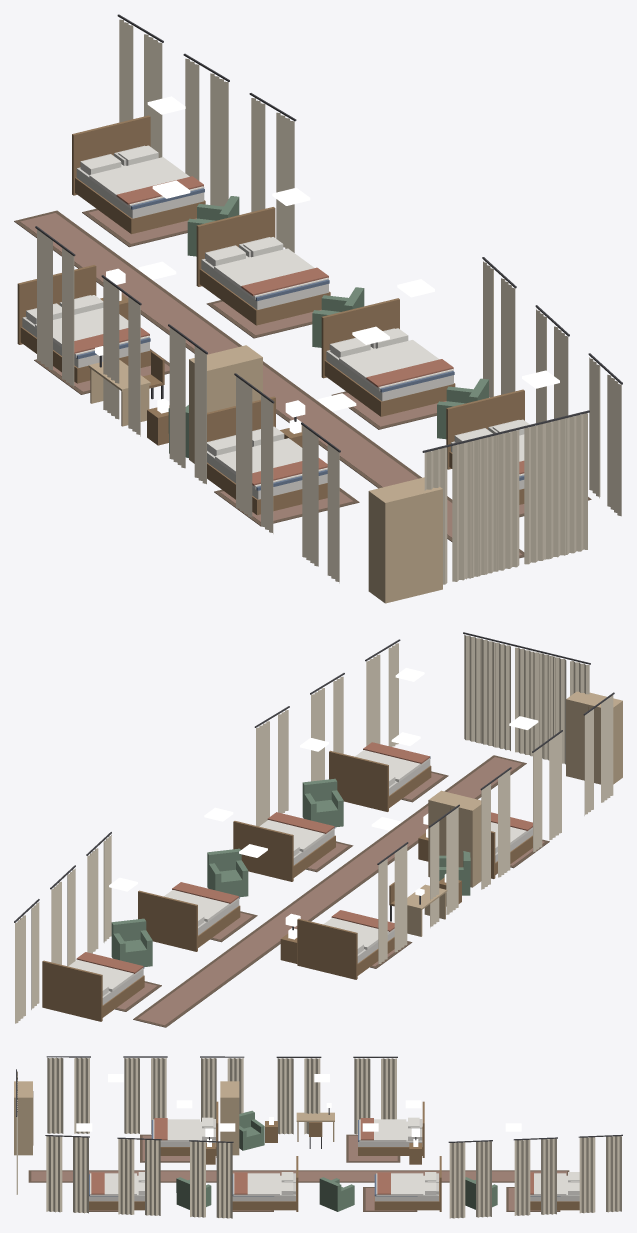
Rendered from fine-s1.glb.
3 views of the same model, one above another, from view 1: azimuth 30°, elevation 25°; view 2: azimuth 150°, elevation 25°; view 3: azimuth 270°, elevation 25° (orthographic). The views are drawn at different scales.
Visible parts, largest first — view 1: soft-s1, dresser.001, bed-frame.003, bed-frame.002, bed-frame.004, bed-frame.000, bed-frame.001, dresser.000, bed-frame.005, writing-desk.000, lounge-chair.002, lounge-chair.001 (+2 smaller); view 2: soft-s1, bed-frame.002, bed-frame.003, bed-frame.005, bed-frame.000, bed-frame.004, dresser.001, dresser.000, lounge-chair.001, lounge-chair.003, lounge-chair.002, writing-desk.000 (+3 smaller); view 3: soft-s1, dresser.001, bed-frame.003, bed-frame.004, dresser.000, bed-frame.000, lounge-chair.002, lounge-chair.000, bed-frame.001, bed-frame.005, bed-frame.002, lounge-chair.003 (+5 smaller).
Boxes of the visible parts, box(x1,y1,x2,y2) form: soft-s1: box(14, 14, 622, 584); dresser.001: box(368, 477, 442, 603); bed-frame.003: box(196, 207, 330, 325); bed-frame.002: box(72, 115, 205, 234); bed-frame.004: box(321, 298, 455, 416); bed-frame.000: box(17, 265, 151, 383); bed-frame.001: box(207, 396, 327, 515); dresser.000: box(189, 345, 262, 463); bed-frame.005: box(446, 389, 524, 504); writing-desk.000: box(88, 346, 150, 426); lounge-chair.002: box(312, 287, 364, 347); lounge-chair.001: box(187, 196, 239, 256); soft-s1: box(14, 632, 614, 1027); bed-frame.002: box(42, 960, 144, 1021); bed-frame.003: box(138, 890, 240, 951); bed-frame.005: box(329, 750, 431, 811); bed-frame.000: box(297, 918, 394, 979); bed-frame.004: box(233, 821, 335, 881); dresser.001: box(566, 691, 622, 784); dresser.000: box(428, 790, 481, 887); lounge-chair.001: box(111, 918, 152, 966); lounge-chair.003: box(302, 778, 343, 827); lounge-chair.002: box(207, 848, 248, 897); writing-desk.000: box(407, 884, 447, 936); soft-s1: box(16, 1056, 622, 1218); dresser.001: box(14, 1081, 33, 1155); bed-frame.003: box(374, 1156, 441, 1211); bed-frame.004: box(232, 1156, 298, 1211); dresser.000: box(220, 1081, 239, 1155); bed-frame.000: box(358, 1101, 424, 1157); lounge-chair.002: box(319, 1177, 354, 1211); lounge-chair.000: box(239, 1110, 264, 1150); bed-frame.001: box(151, 1101, 218, 1157); bed-frame.005: box(89, 1174, 144, 1210); bed-frame.002: box(530, 1175, 579, 1210); lounge-chair.003: box(176, 1177, 211, 1209).
Bounding box in the file's own units: 6.4 × 2.81 × 19.15.
